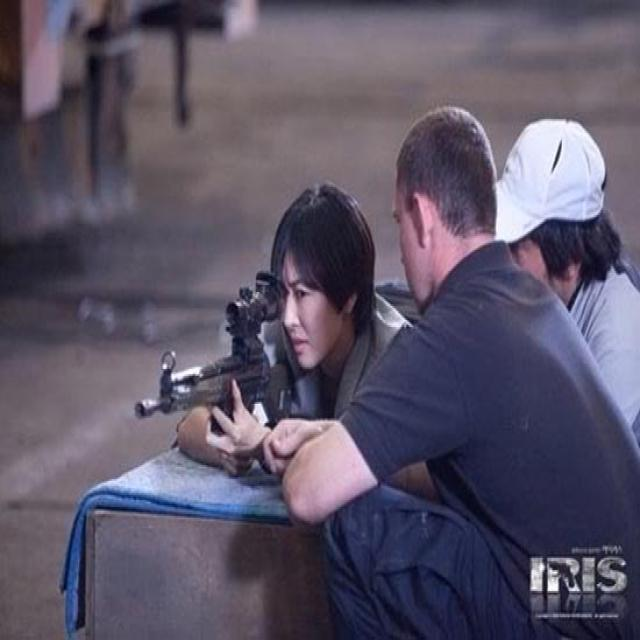rifle: (133, 276, 291, 429)
